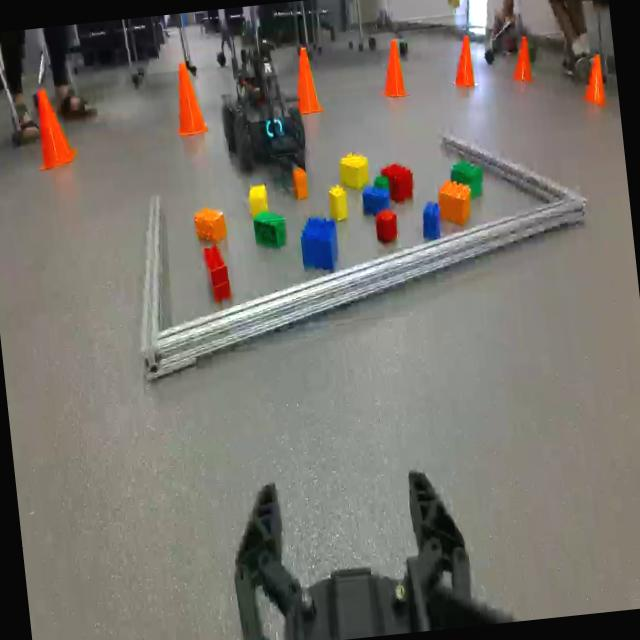block: (337, 148, 372, 191), (327, 183, 349, 223), (246, 182, 268, 215)
blue: (296, 212, 338, 274), (358, 180, 392, 218), (419, 201, 444, 241)
cone: (21, 81, 80, 176), (165, 60, 207, 140), (572, 49, 614, 112), (288, 47, 326, 116), (374, 34, 412, 102), (446, 30, 480, 92), (505, 34, 538, 88)
green: (252, 208, 286, 254), (451, 157, 485, 202)
metal barrier: (139, 130, 588, 384)
orange: (436, 176, 474, 226), (192, 202, 230, 245), (289, 165, 309, 200)
red goal: (200, 238, 232, 306), (382, 160, 416, 204), (376, 208, 400, 244)
robot: (212, 9, 312, 186)
